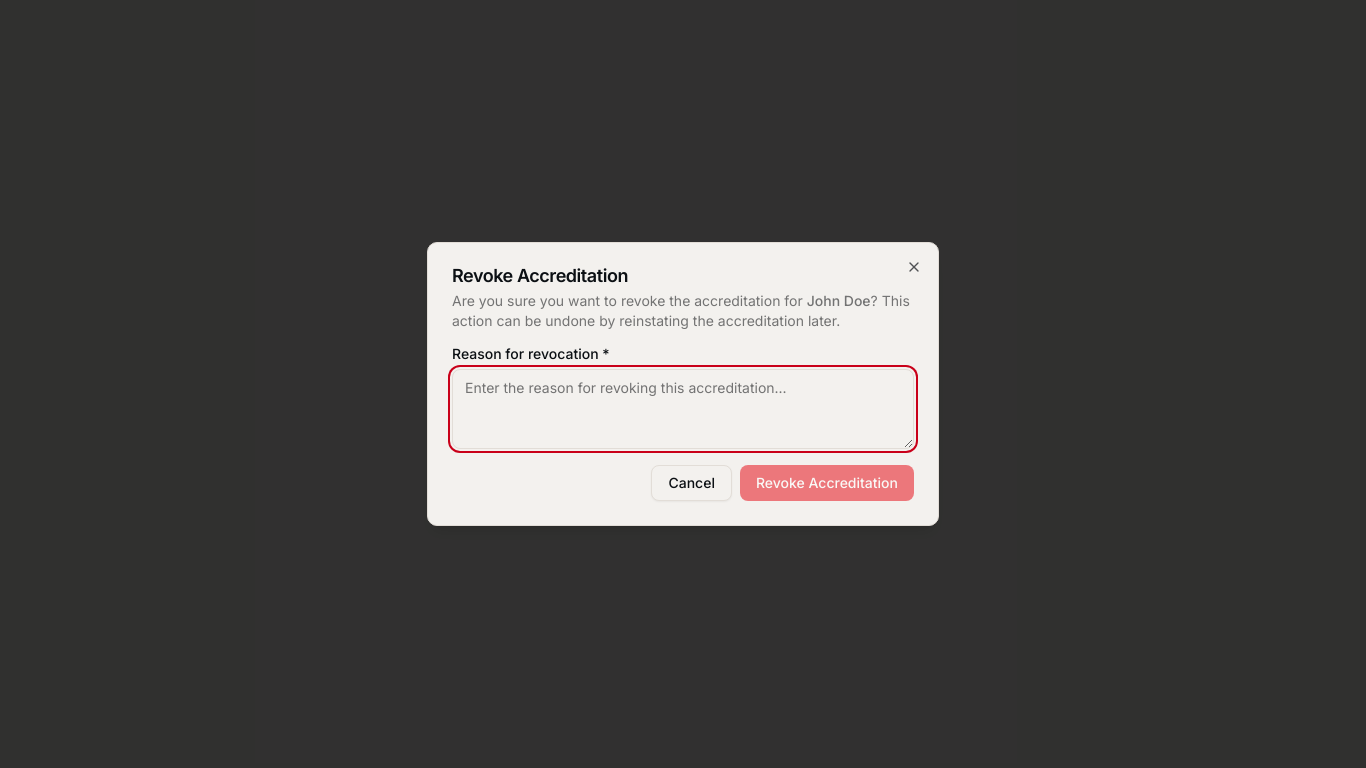
Scenario: RevokeDialog › enables submit button when reason is provided
Type "Violation of policy" into the text box with placeholder "Enter the reason for revoking this accreditation...".
click(683, 409); type("Violation of policy")  # box [452,369,914,449]
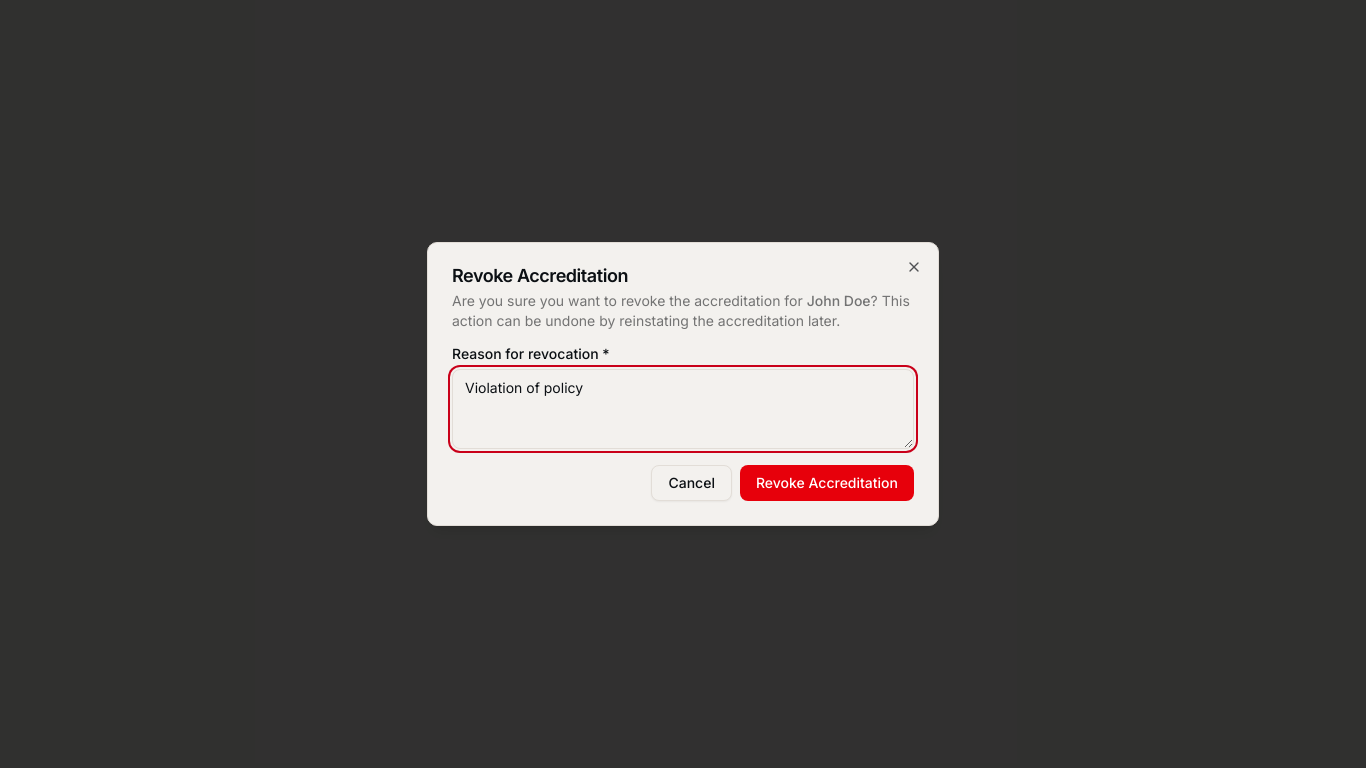
Expected: the button "Revoke Accreditation" is enabled, [740,465,914,501]
